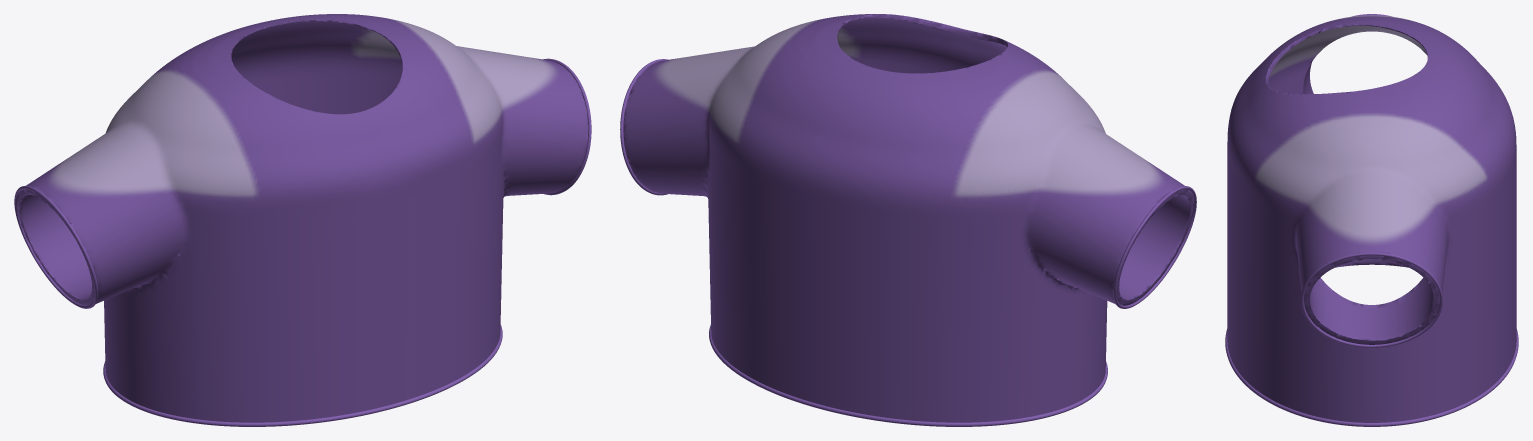
File: Feminine-jersey-top.glb
3 renders of one model, left to right at view 1: azimuth 30°, elevation 25°; view 2: azimuth 150°, elevation 25°; view 3: azimuth 270°, elevation 25°, orthographic. The views are drawn at different scales.
Parts seen in each view (by area): view 1: Clothing / jersey, Shirt / hem export, Sleeve / open cuff -1 export, Sleeve / open cuff 1 export; view 2: Clothing / jersey, Shirt / hem export, Sleeve / open cuff -1 export, Sleeve / open cuff 1 export; view 3: Clothing / jersey, Shirt / hem export, Sleeve / open cuff 1 export.
Boxes of the visible parts, x1,y1,x2,y2 form: Clothing / jersey: (17,14,588,422); Shirt / hem export: (103,325,502,426); Sleeve / open cuff -1 export: (14,185,98,308); Sleeve / open cuff 1 export: (543,58,591,195); Clothing / jersey: (623,14,1193,422); Shirt / hem export: (709,325,1107,426); Sleeve / open cuff -1 export: (1113,186,1196,308); Sleeve / open cuff 1 export: (620,59,668,195); Clothing / jersey: (1227,15,1516,422); Shirt / hem export: (1225,329,1518,426); Sleeve / open cuff 1 export: (1300,252,1443,347).
Bounding box in the file's own units: 1.04 × 0.5798 × 0.536.
